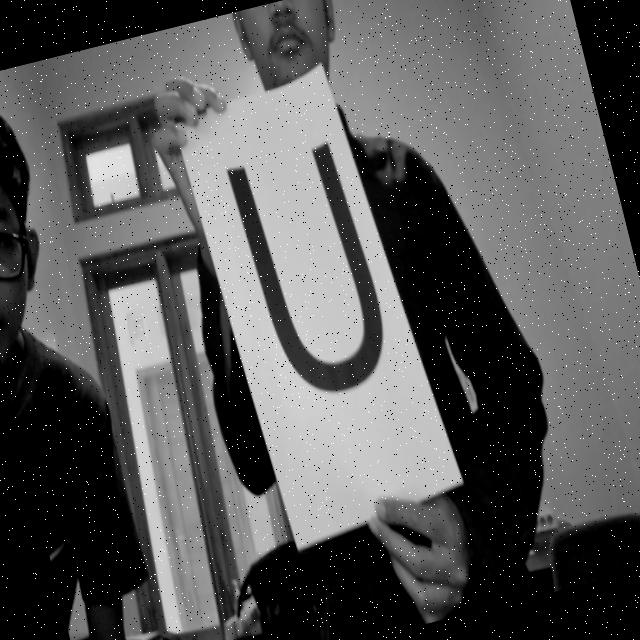u: (208, 115, 432, 428)
